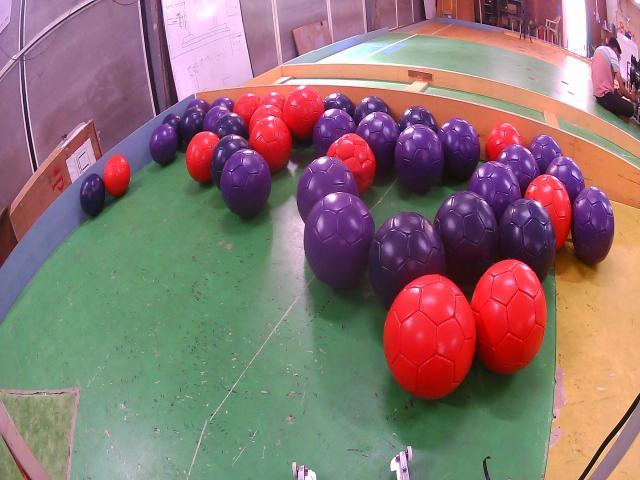jambhalya: (304, 192, 375, 288), (296, 157, 359, 222), (220, 148, 271, 217), (394, 123, 444, 193), (571, 187, 615, 265), (468, 162, 521, 223), (356, 112, 400, 172), (438, 118, 480, 180), (498, 143, 540, 197), (312, 108, 356, 157), (546, 157, 585, 205), (529, 135, 562, 172), (150, 123, 178, 165), (202, 105, 230, 131), (186, 98, 210, 113), (211, 97, 234, 112)
kaalyya: (369, 212, 446, 308), (434, 190, 498, 285), (499, 198, 556, 282), (210, 135, 249, 188), (398, 105, 439, 133), (80, 173, 105, 217), (354, 97, 391, 125), (214, 113, 249, 139), (181, 107, 206, 143), (324, 92, 355, 116), (162, 113, 182, 146)
